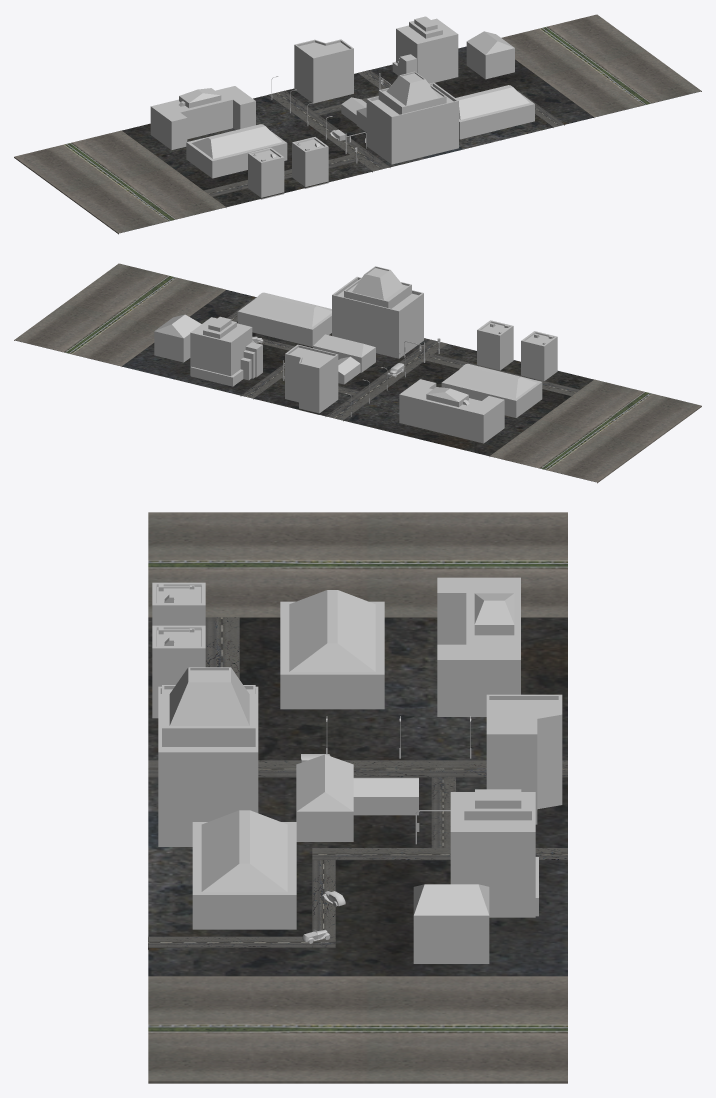
The model's file is Block_20.fbx.
3 views of the same model, one above another, from view 1: azimuth 30°, elevation 25°; view 2: azimuth 150°, elevation 25°; view 3: azimuth 270°, elevation 25° (orthographic). The views are drawn at different scales.
Parts seen in each view (by area): view 1: pasted__polySurface1350; view 2: pasted__polySurface1350; view 3: pasted__polySurface1350.
Boxes of the visible parts, x1=… form: pasted__polySurface1350: x1=14, y1=14, x2=701, y2=234; pasted__polySurface1350: x1=14, y1=263, x2=701, y2=483; pasted__polySurface1350: x1=148, y1=512, x2=567, y2=1083.
Size of the model in its own units: 459 by 143 by 54.5.
